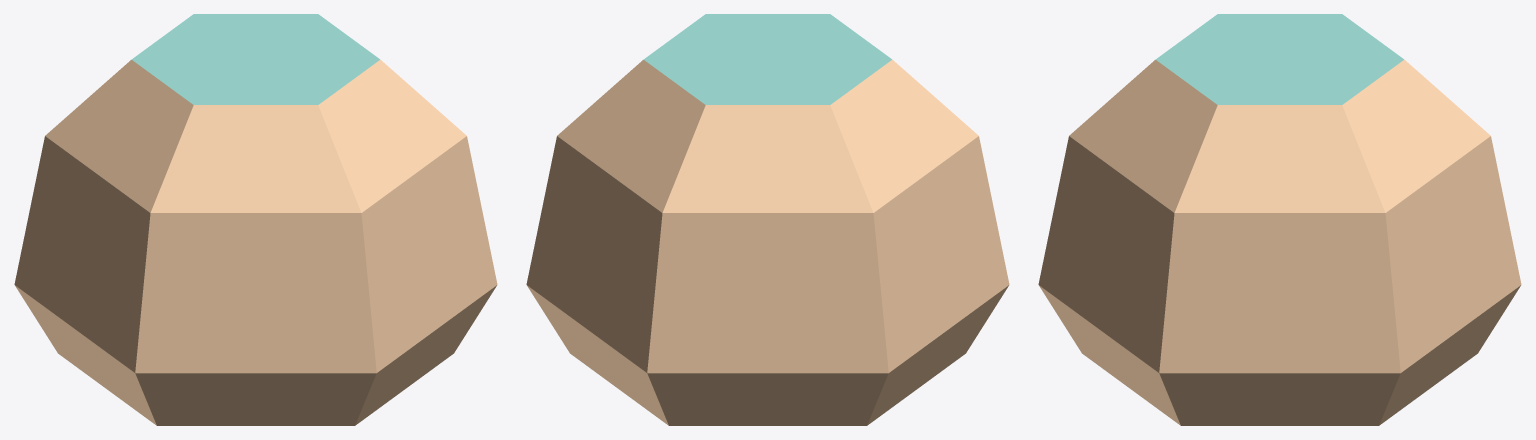
Rendered from rock_small9.glb.
3 views of the same model, side by side, from view 1: azimuth 30°, elevation 25°; view 2: azimuth 150°, elevation 25°; view 3: azimuth 270°, elevation 25° (orthographic).
Parts seen in each view (by area): view 1: rock_small9; view 2: rock_small9; view 3: rock_small9.
Boxes of the visible parts, x1,y1,x2,y2 form: rock_small9: (14, 14, 497, 425); rock_small9: (526, 14, 1009, 425); rock_small9: (1038, 14, 1521, 425).
Size of the model in its own units: 0.3583 by 0.2778 by 0.4138.
